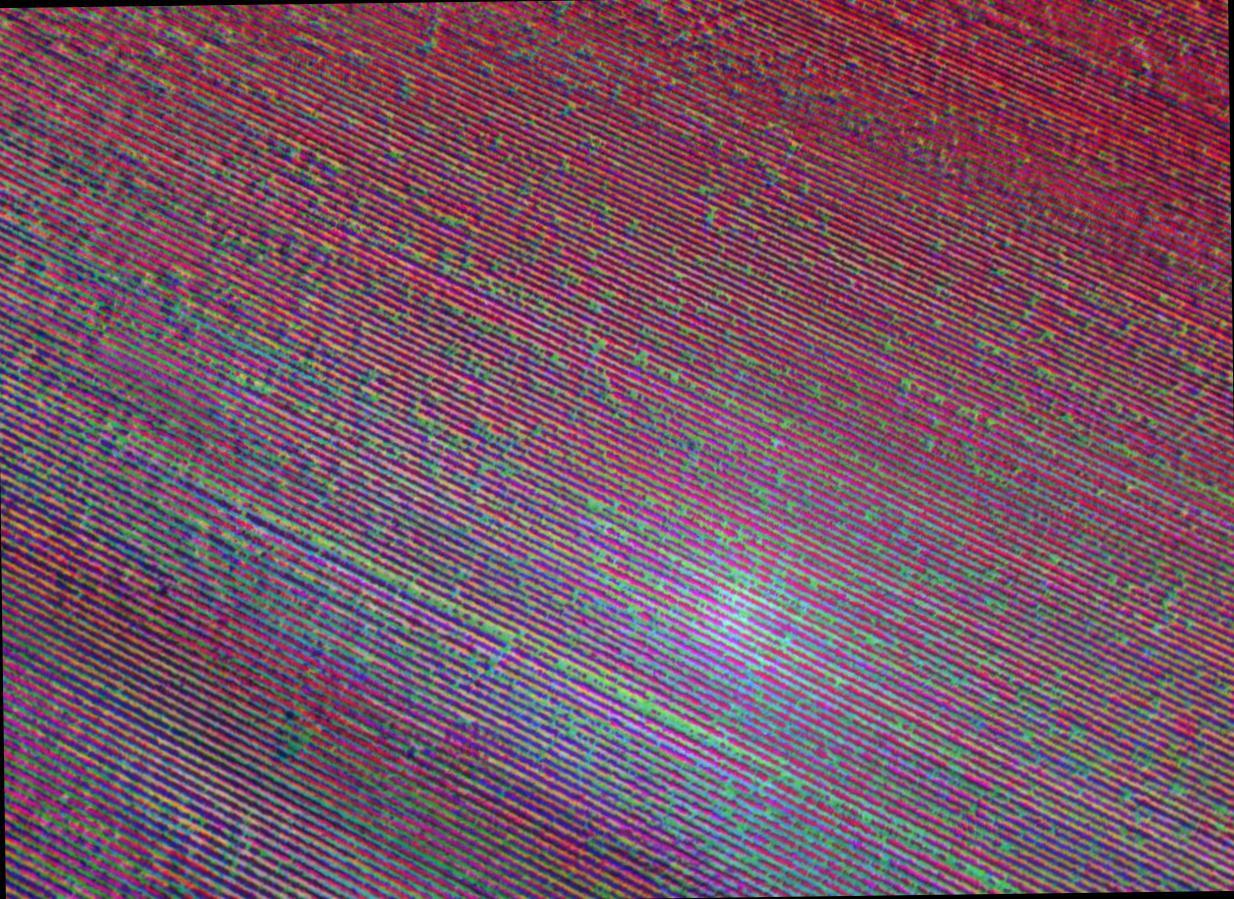dc: (368, 588, 487, 736), (543, 645, 684, 764), (668, 533, 786, 644), (711, 783, 811, 899), (216, 495, 317, 606), (51, 443, 156, 549)
